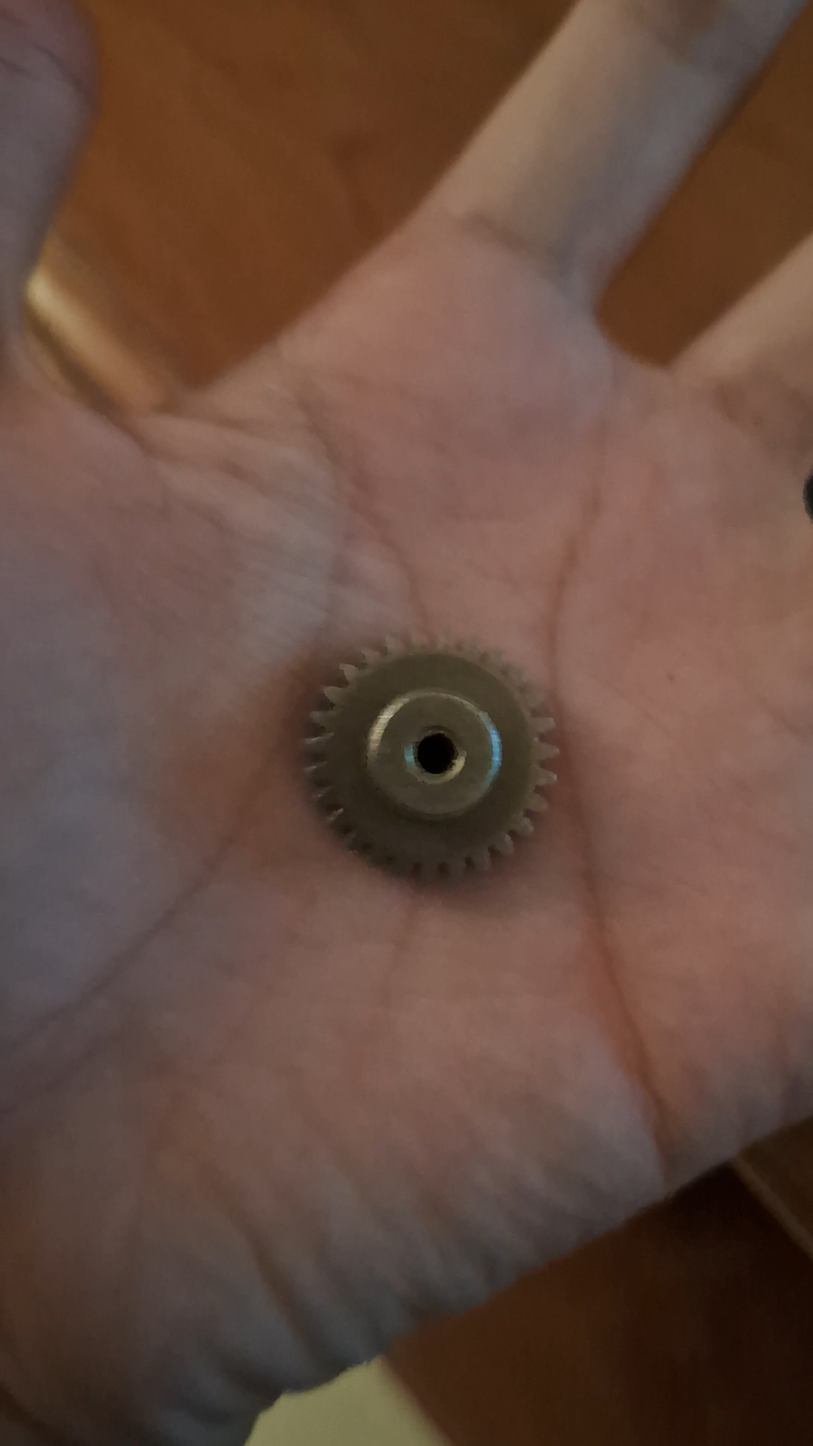spur gear: (306, 640, 557, 879)
